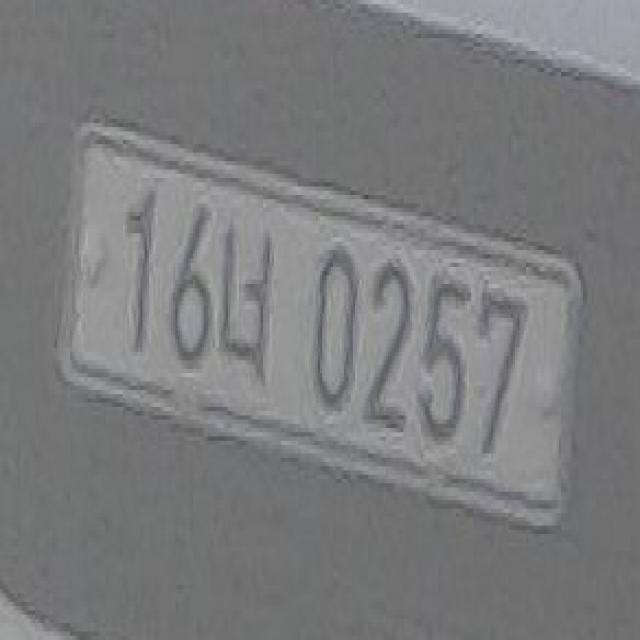0: (312, 237, 359, 428)
1: (118, 182, 158, 365)
2: (364, 250, 410, 441)
5: (414, 258, 471, 454)
6: (167, 195, 217, 386)
7: (474, 280, 528, 474)
license_plate: (59, 110, 581, 543)
neo: (217, 216, 278, 403)
